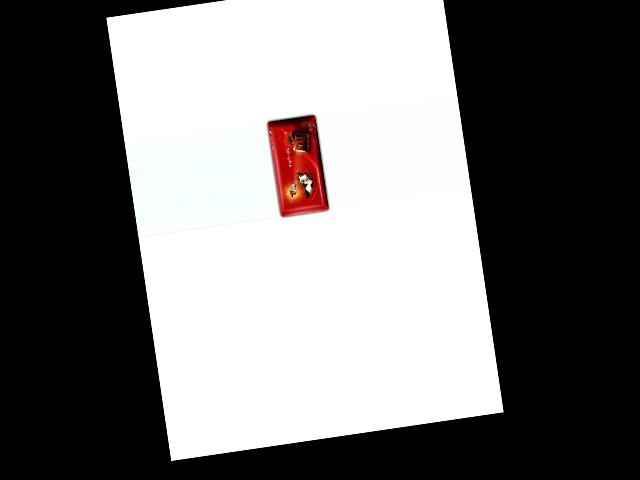chocolate: (266, 112, 333, 222)
